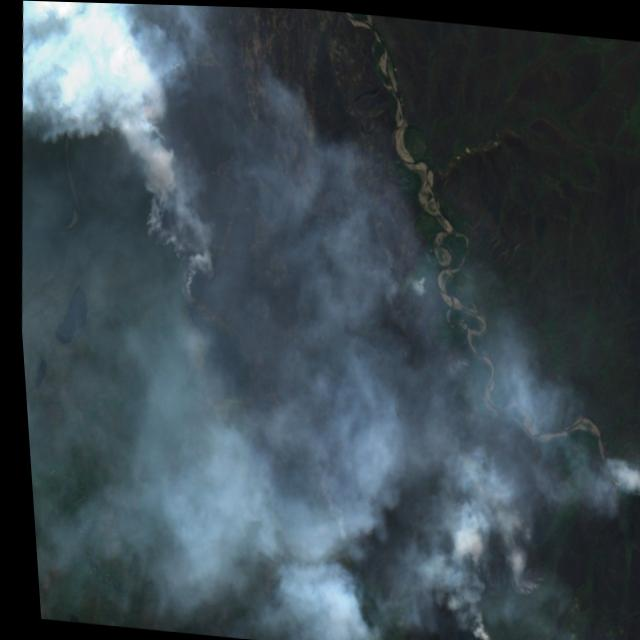fire: (110, 92, 181, 193), (166, 206, 239, 296), (502, 549, 542, 598), (458, 617, 490, 640)
